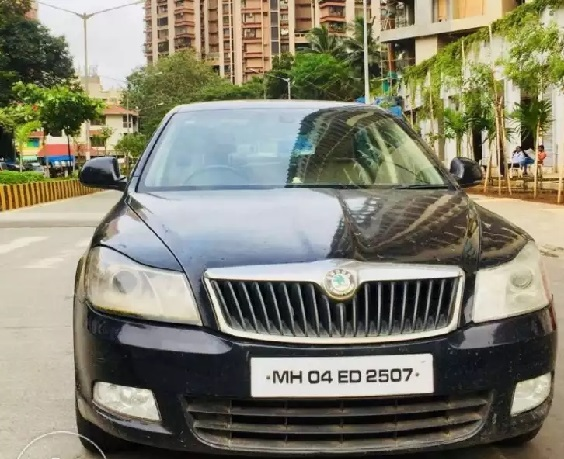licenseplate: (249, 354, 437, 395)
